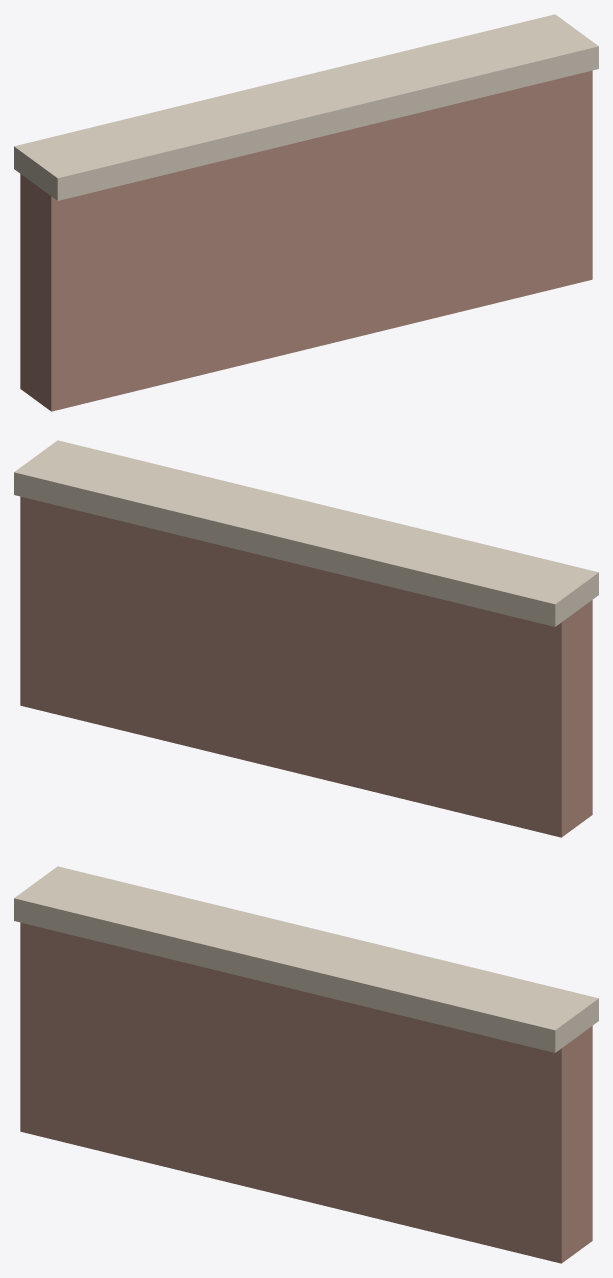
Rendered from Parapet.glb.
3 views of the same model, one above another, from view 1: azimuth 30°, elevation 25°; view 2: azimuth 150°, elevation 25°; view 3: azimuth 330°, elevation 25° (orthographic).
Parts seen in each view (by area): view 1: PBK_parapet.003, PBK_coping.003; view 2: PBK_parapet.003, PBK_coping.003; view 3: PBK_parapet.003, PBK_coping.003.
Boxes of the visible parts, left/top/right/bottom form: PBK_parapet.003: left=20, top=70, right=592, bottom=411; PBK_coping.003: left=14, top=14, right=598, bottom=200; PBK_parapet.003: left=20, top=496, right=592, bottom=837; PBK_coping.003: left=14, top=440, right=598, bottom=626; PBK_parapet.003: left=20, top=922, right=592, bottom=1263; PBK_coping.003: left=14, top=866, right=598, bottom=1052.
Bounding box in the file's own units: 2 × 0.84 × 0.28.
